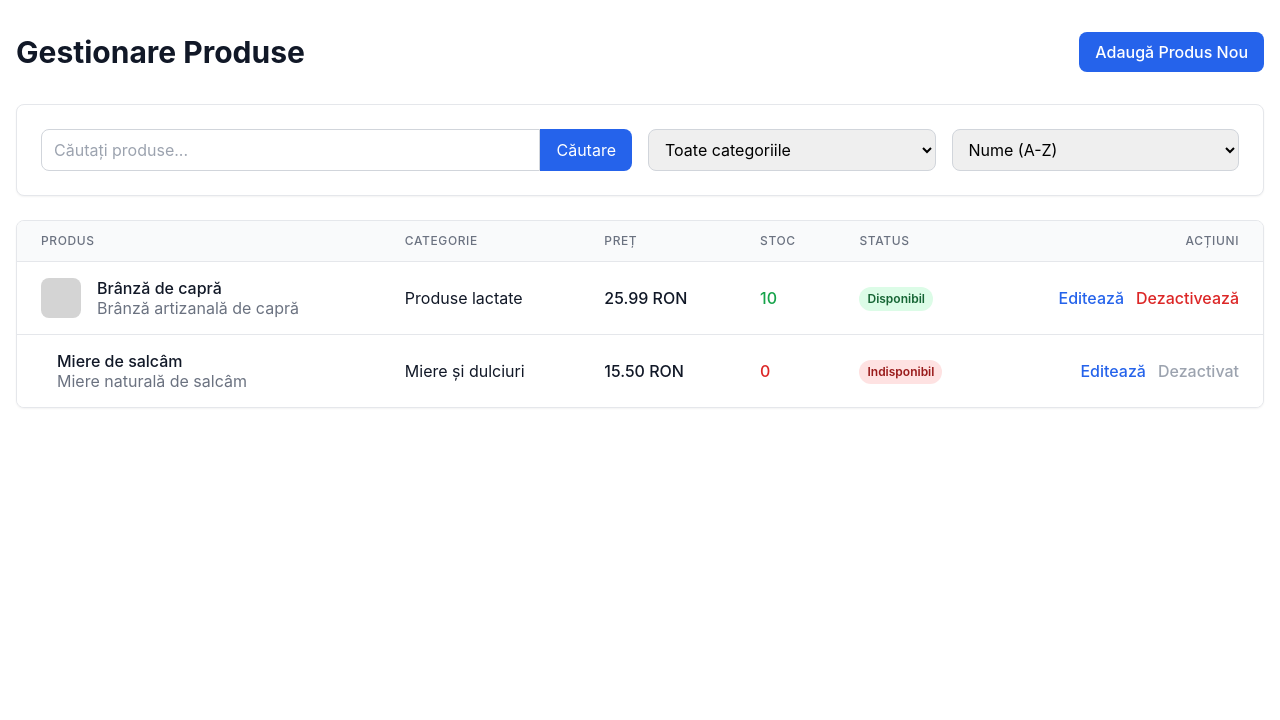
ProductManager Component › Product Deletion › opens delete confirmation modal
The image size is (1280, 720).
Expected: the text "Brânză de capră" is shown, [97, 278, 222, 298]
Step 1. Click the button "Dezactivează" → coordinates (1188, 298), box [1136, 288, 1239, 308]
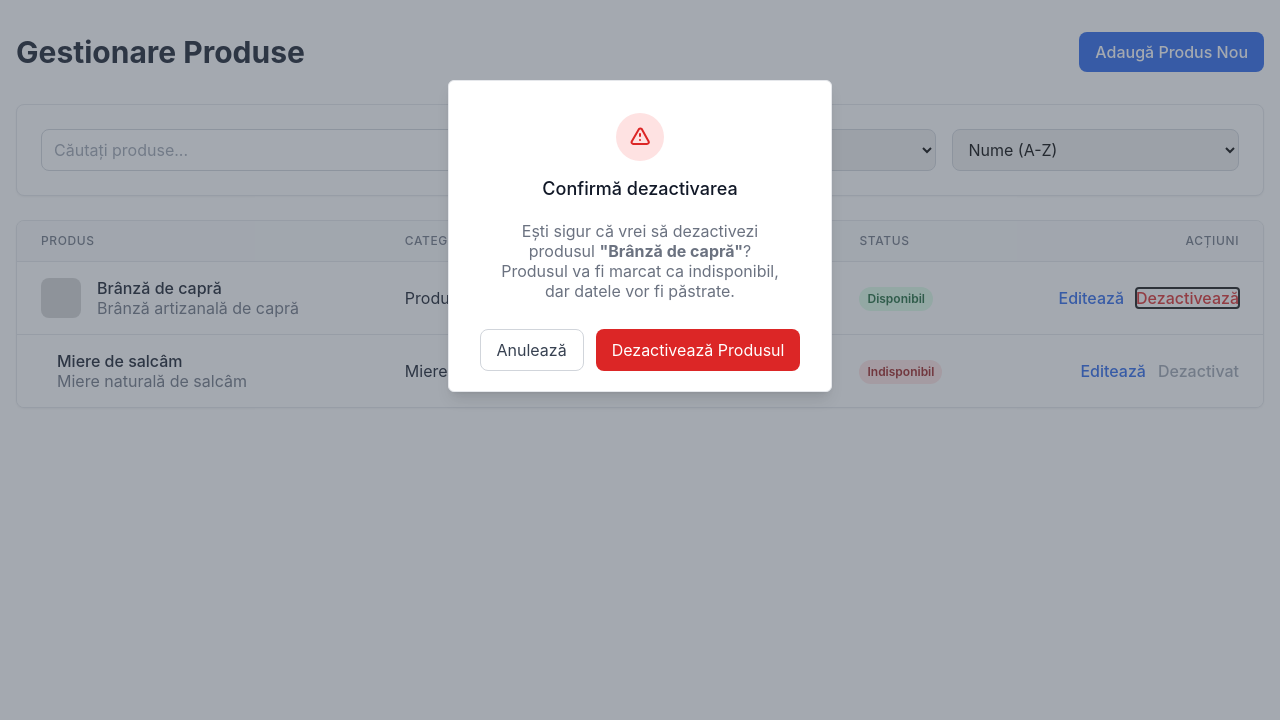
Now the heading "Confirmă dezactivarea" is shown, box [542, 178, 738, 199]
Now the text "Ești sigur că vrei să dezactivezi produsul" is shown, box [522, 221, 758, 261]
